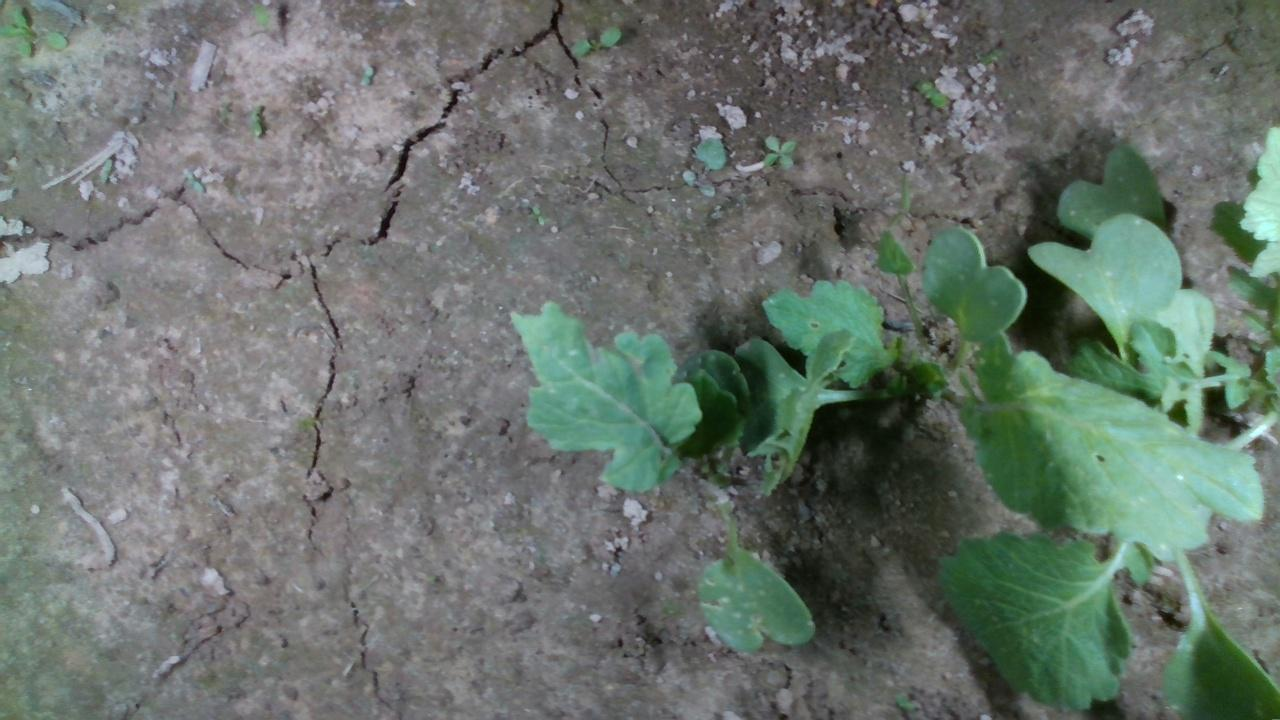weed: (569, 23, 621, 57), (759, 130, 799, 168), (912, 76, 950, 110)
